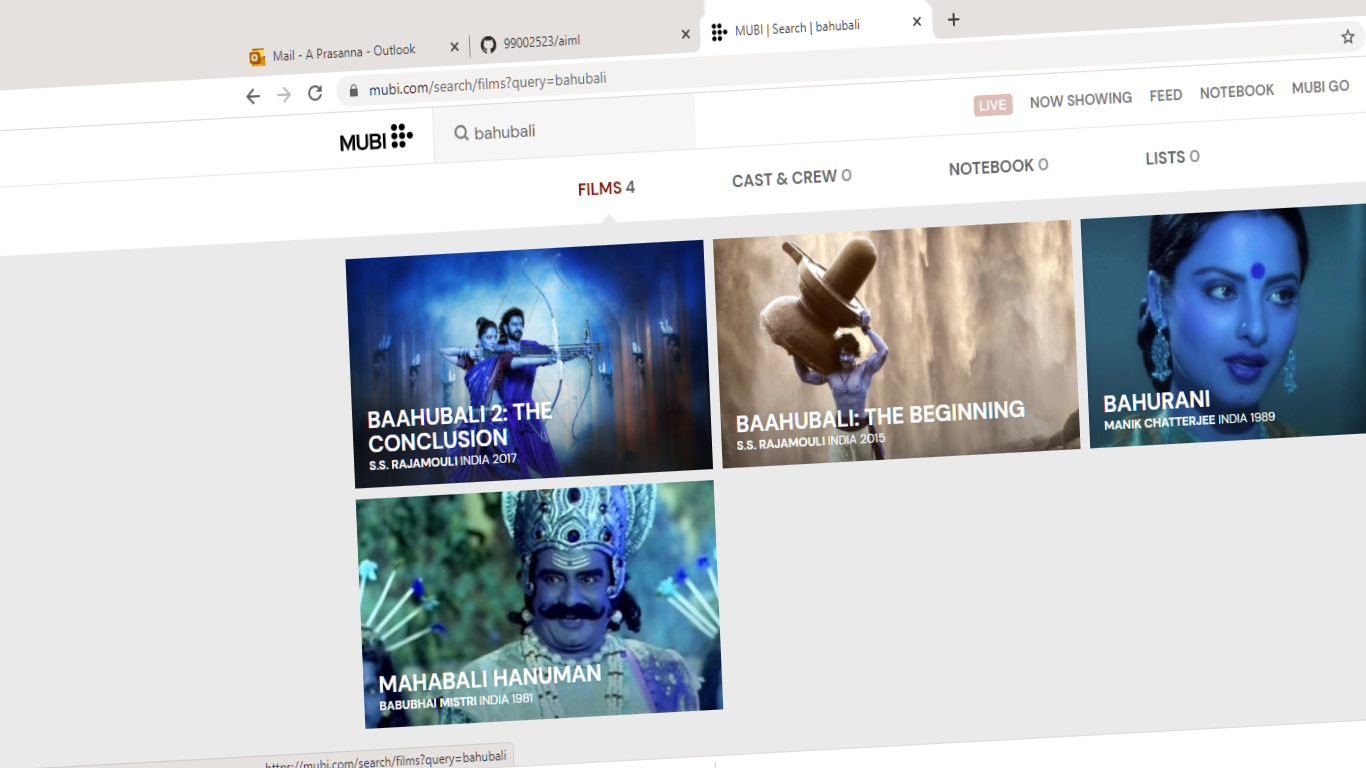searchicon: (442, 119, 477, 155)
searchtextbox: (431, 98, 700, 157)
